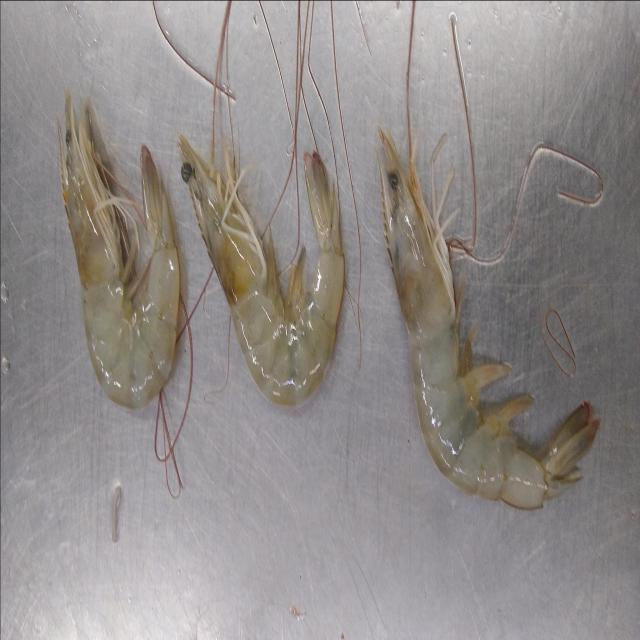shrimp: (378, 129, 600, 509), (178, 136, 344, 407), (58, 91, 180, 409)
